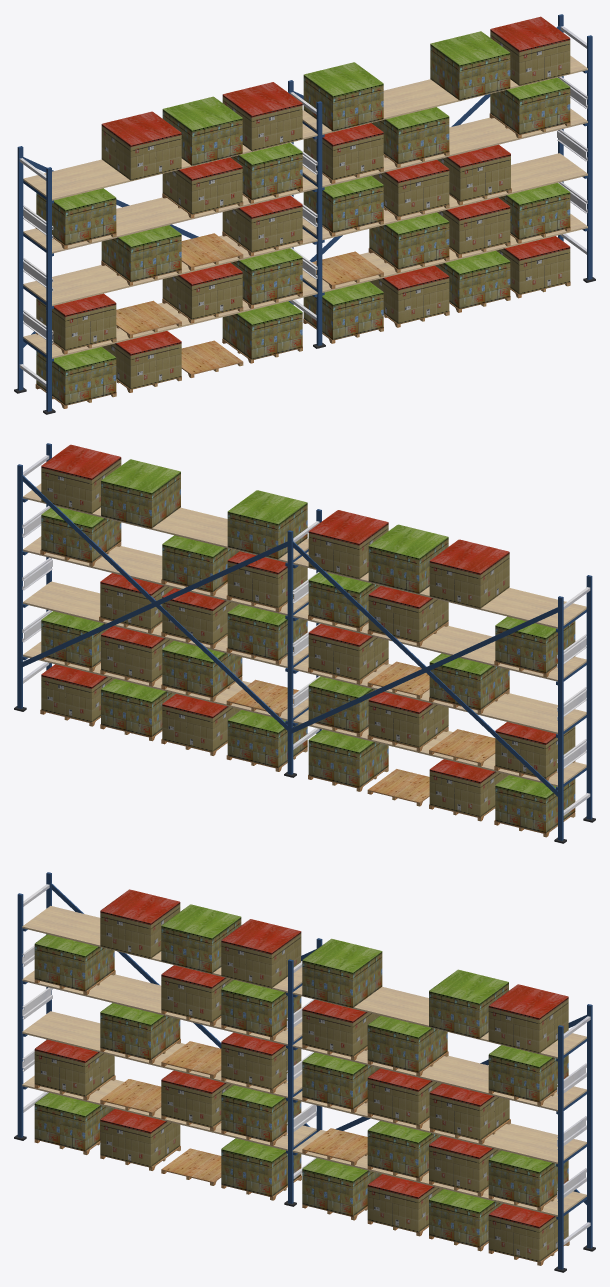
File: BigShelves02Group5.glb
3 views of the same model, one above another, from view 1: azimuth 30°, elevation 25°; view 2: azimuth 150°, elevation 25°; view 3: azimuth 330°, elevation 25° (orthographic).
Visible parts, largest first — view 1: Box_Pallet01, BigShelves02, BigShelvesWoodBox; view 2: Box_Pallet01, BigShelves02, BigShelvesWoodBox; view 3: Box_Pallet01, BigShelves02, BigShelvesWoodBox.
Part boxes in pixels (x1,y1,x2,y2): Box_Pallet01: [36, 16, 570, 405]; BigShelves02: [14, 14, 595, 414]; BigShelvesWoodBox: [35, 113, 570, 408]; Box_Pallet01: [41, 444, 575, 833]; BigShelves02: [14, 443, 595, 843]; BigShelvesWoodBox: [40, 542, 575, 837]; Box_Pallet01: [34, 889, 568, 1261]; BigShelves02: [14, 872, 595, 1272]; BigShelvesWoodBox: [34, 970, 569, 1265].
Size of the model in its own units: 17.75 by 7.66 by 1.81.
7 materials, 7 textured.
